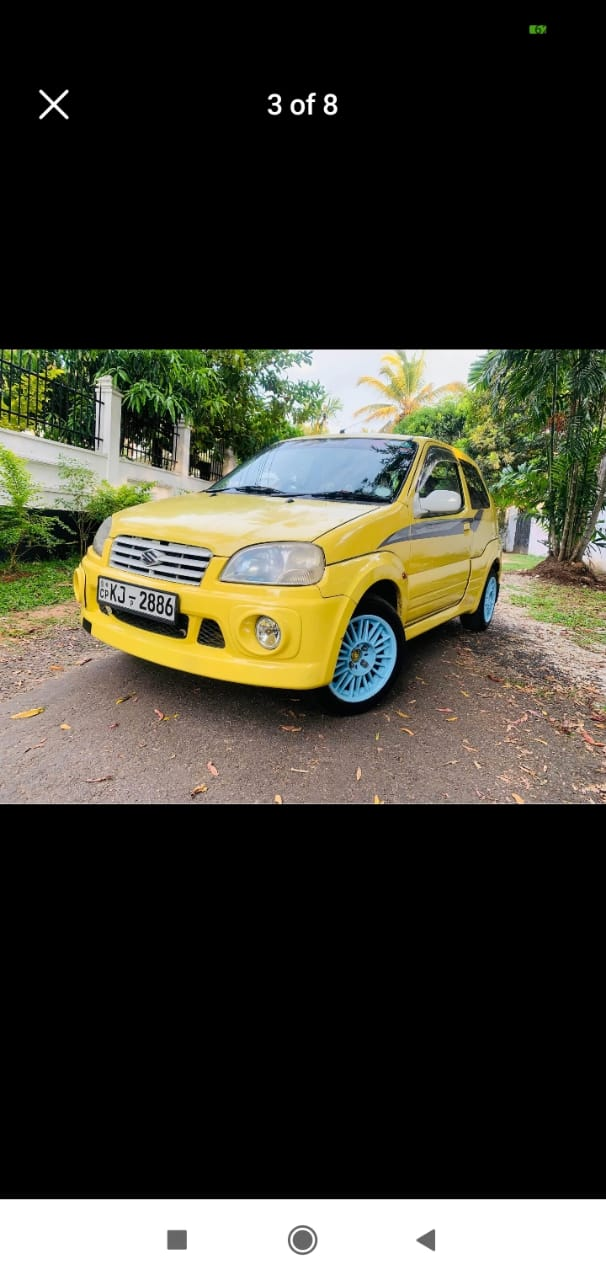number_plate: (97, 574, 183, 626)
